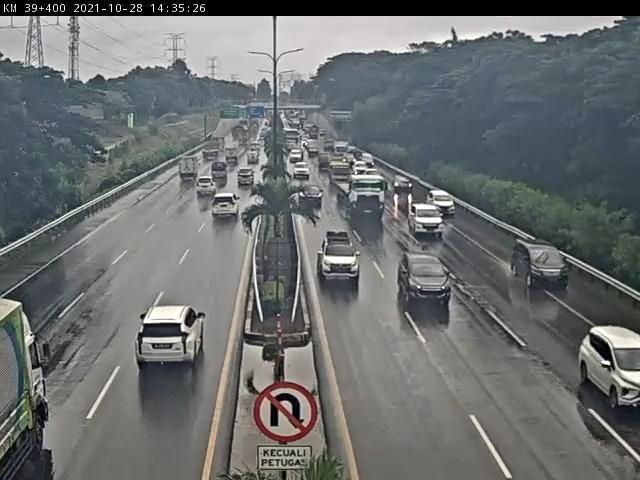car: (118, 297, 213, 385), (556, 321, 640, 412), (393, 241, 459, 311), (507, 235, 581, 292), (317, 224, 367, 290), (404, 194, 436, 238), (212, 188, 244, 227), (424, 186, 459, 217), (299, 175, 328, 205), (234, 168, 261, 196), (391, 171, 420, 196), (194, 174, 217, 205)
truck: (2, 293, 69, 480), (339, 169, 389, 222), (173, 151, 207, 188)
